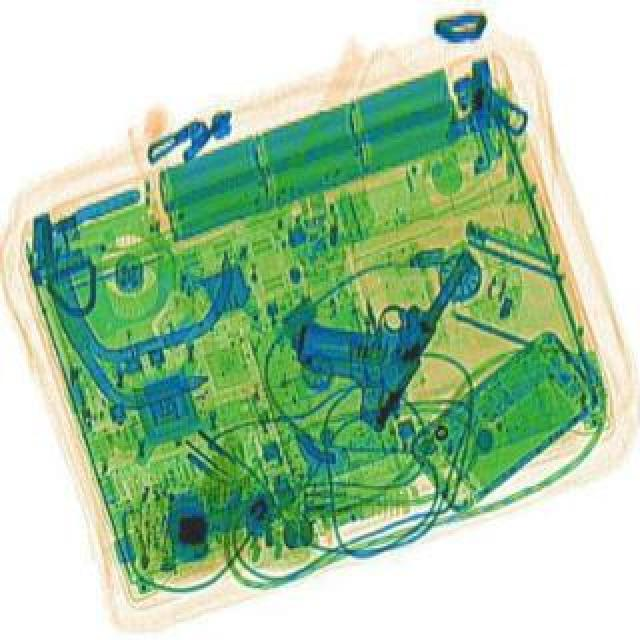gun: (276, 202, 480, 426)
